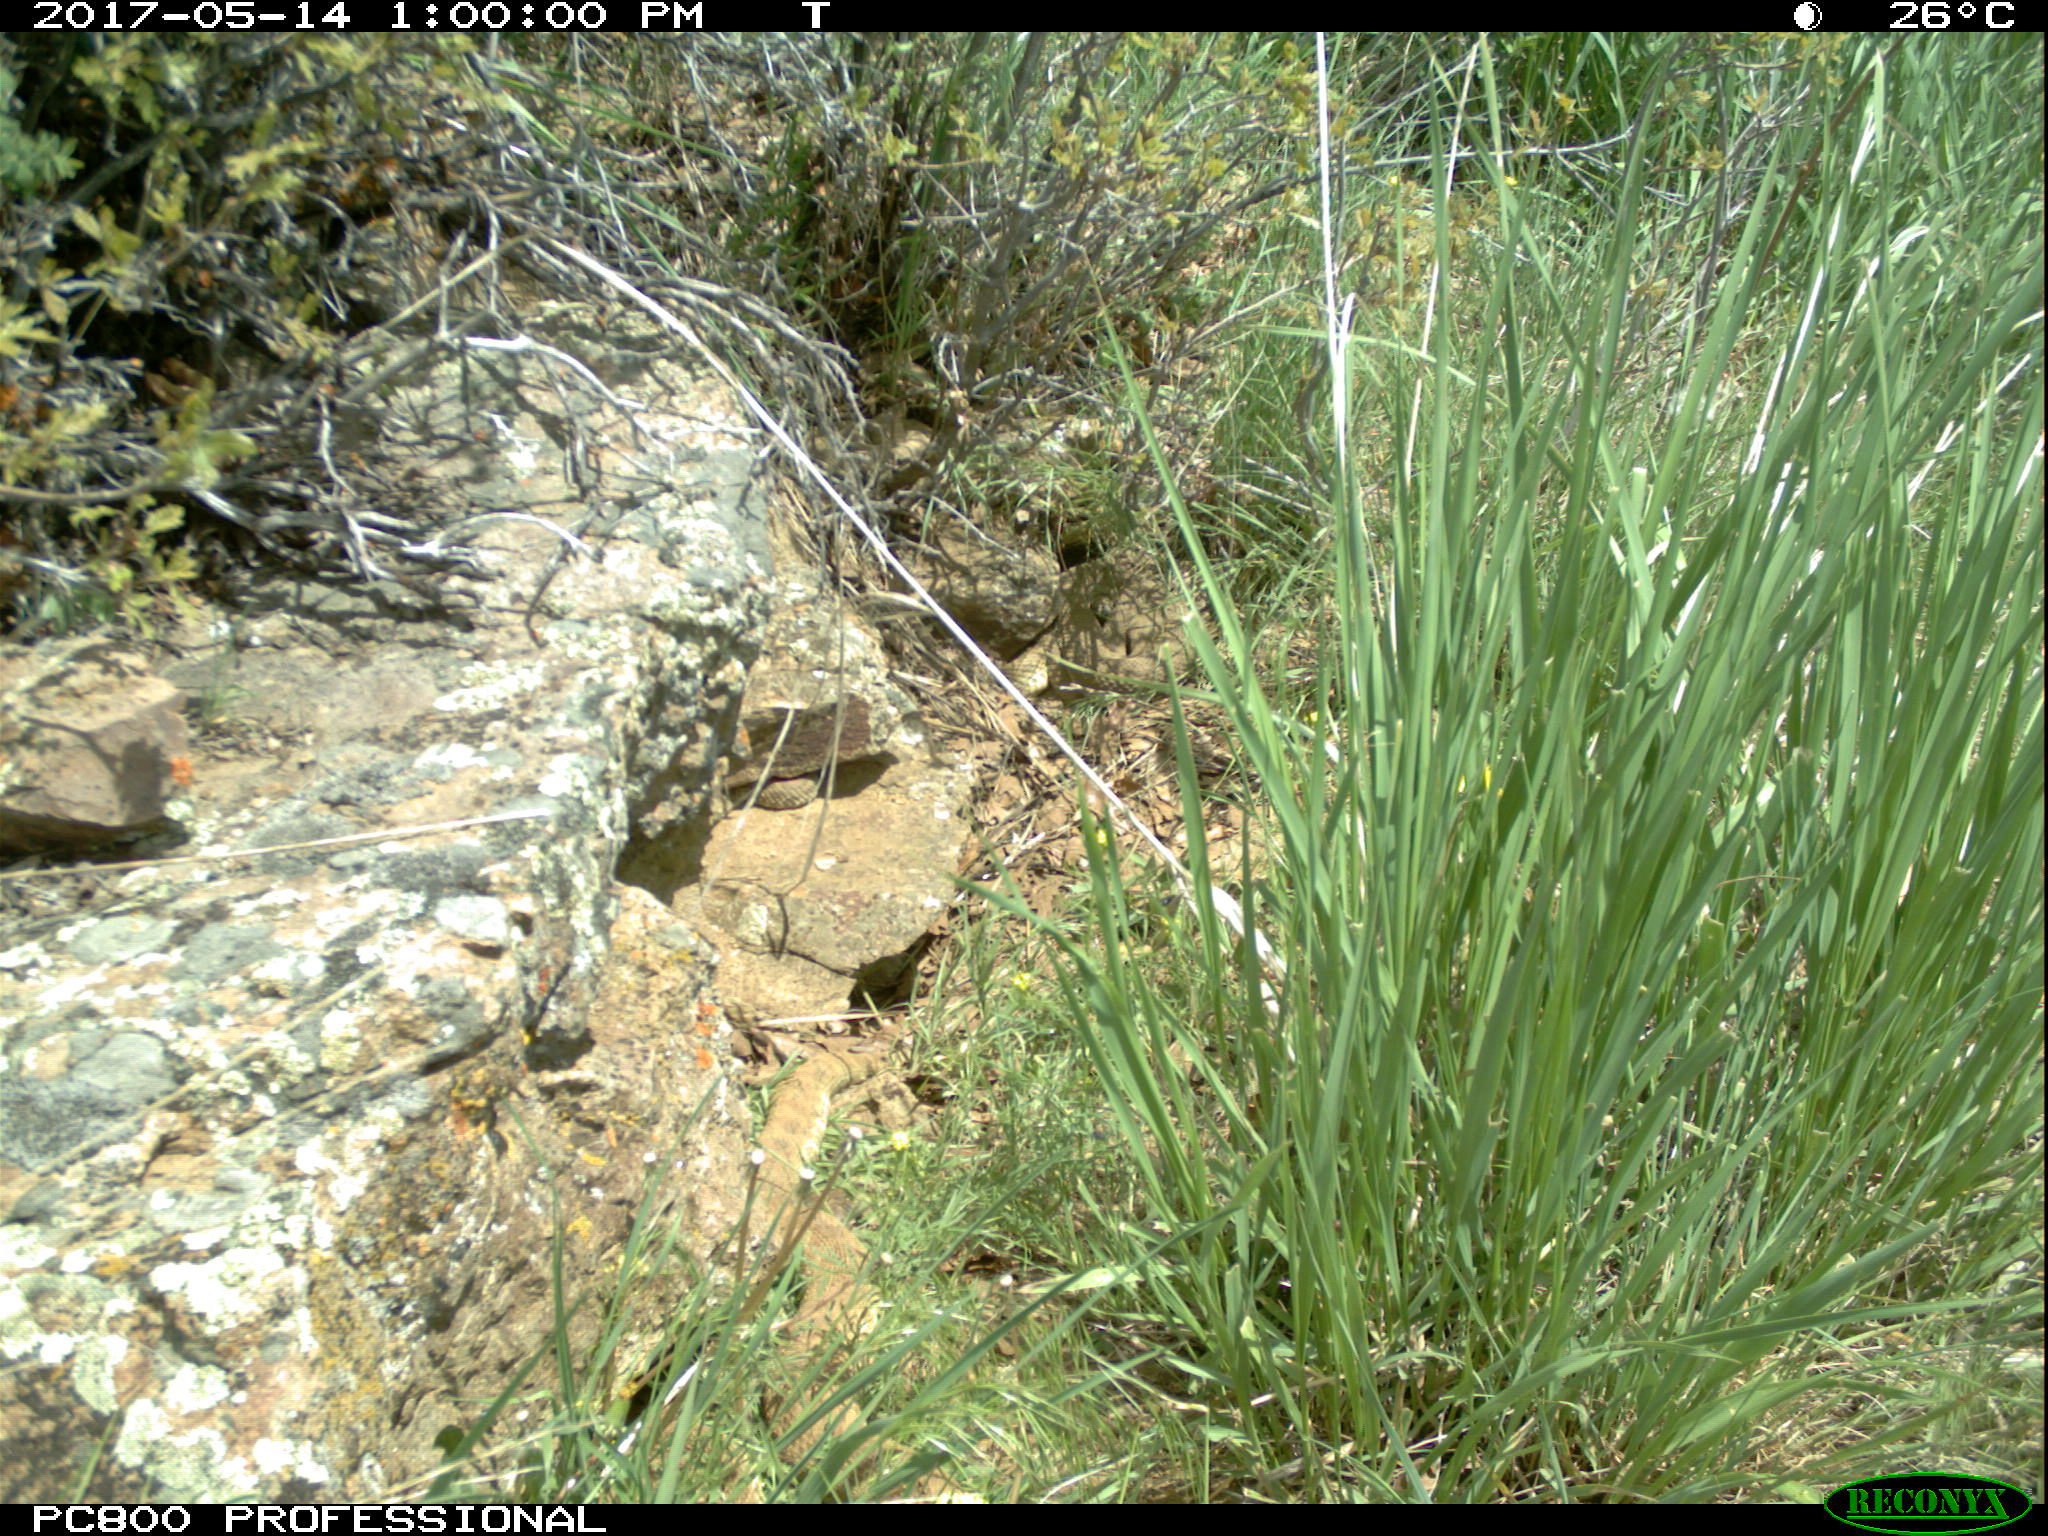snake: (755, 1042, 908, 1497), (1053, 561, 1205, 694), (993, 637, 1074, 697), (743, 773, 821, 807)
